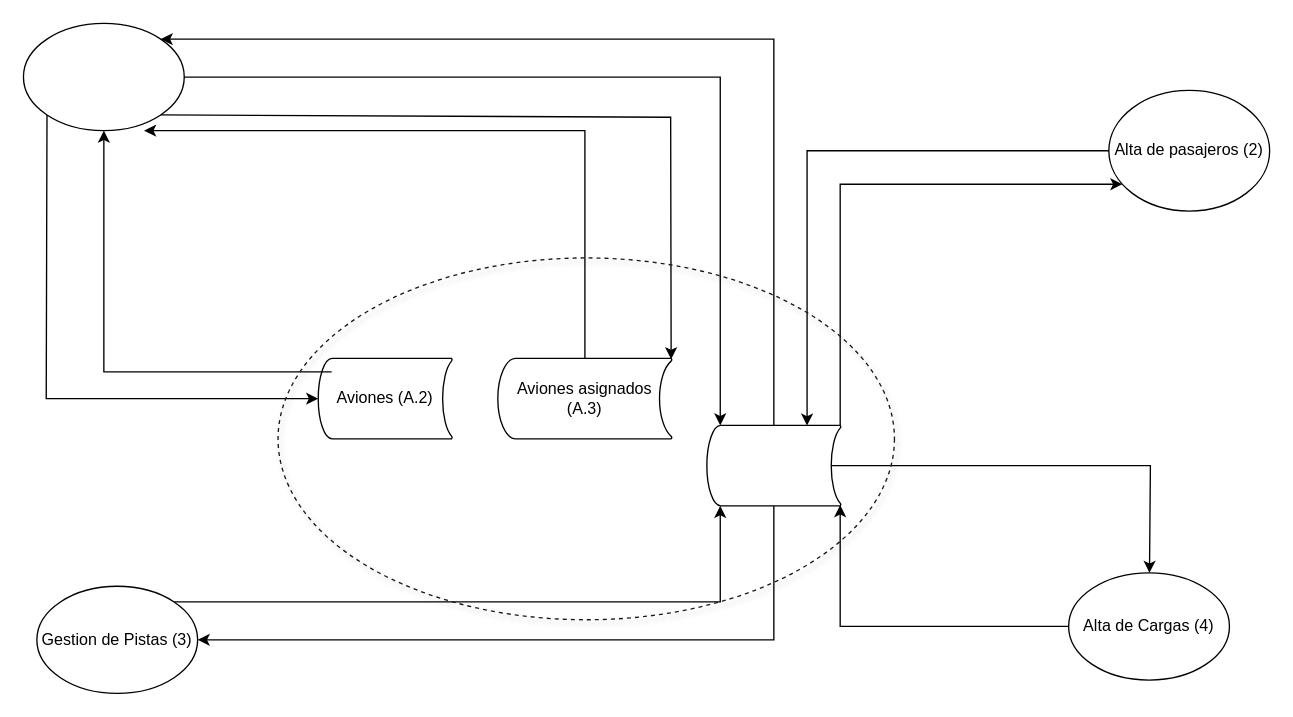
Some shapes in this 1293 by 717 pixel diagram are drawn without their labels. The centre of each missing label's shape, as x and y in pixels:
"Gestion de vuelos y billetes (1)" belongs at point (103, 76).
"Vuelos (A.1)" belongs at point (773, 465).
